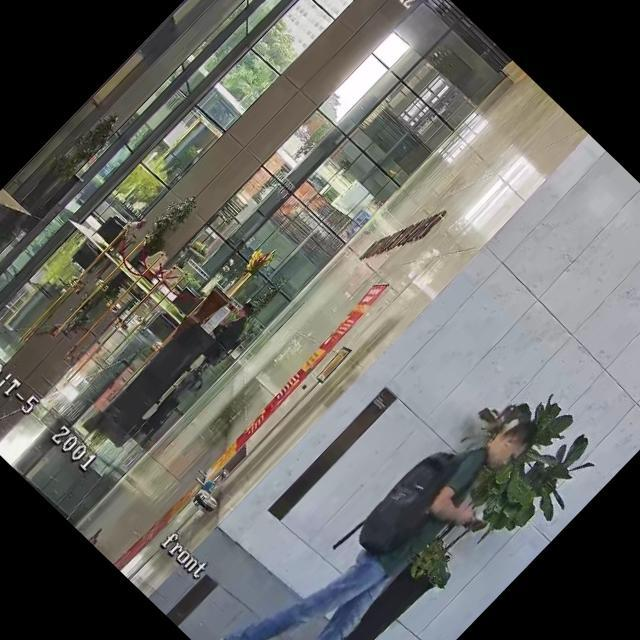person: (207, 370, 566, 640), (198, 298, 264, 364), (104, 213, 150, 260)
